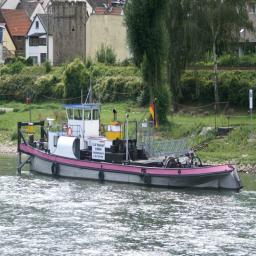tugboat: (16, 100, 247, 197)
